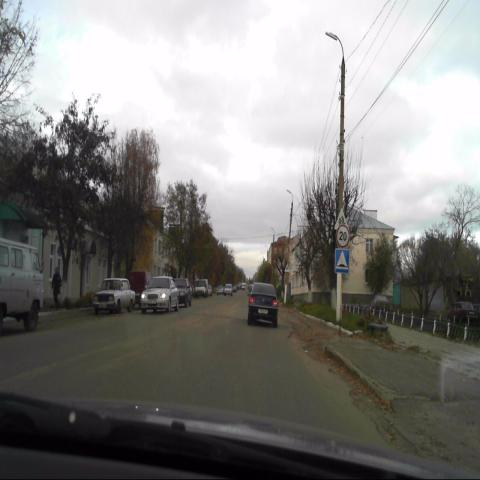3_24: (336, 224, 350, 246)
5_20: (334, 248, 350, 273)
